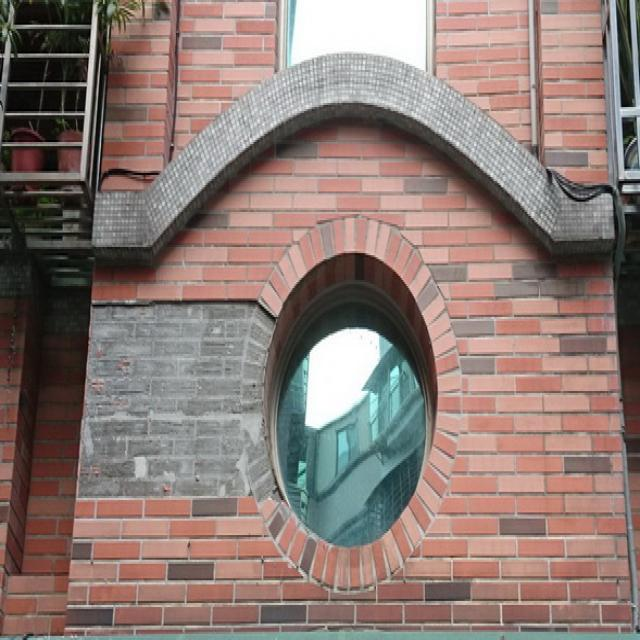tile: (78, 300, 282, 500)
